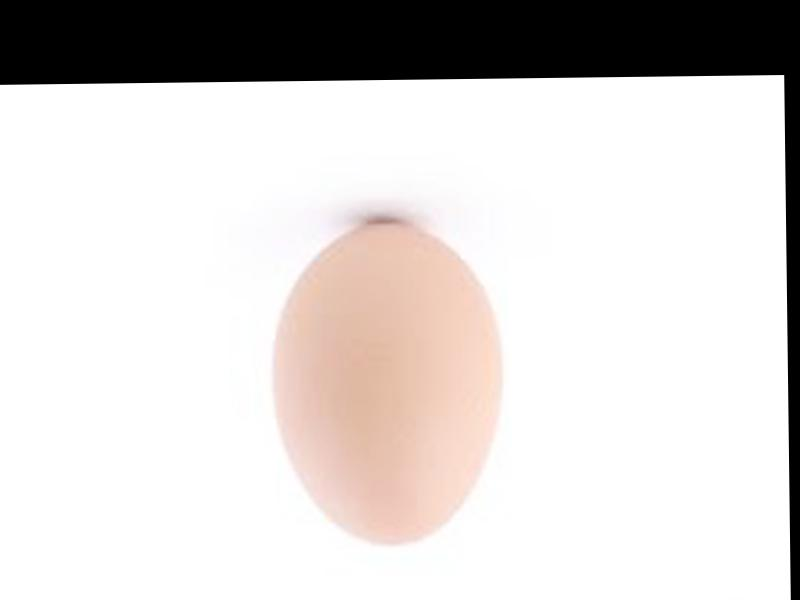Eggs: (267, 222, 504, 546)
